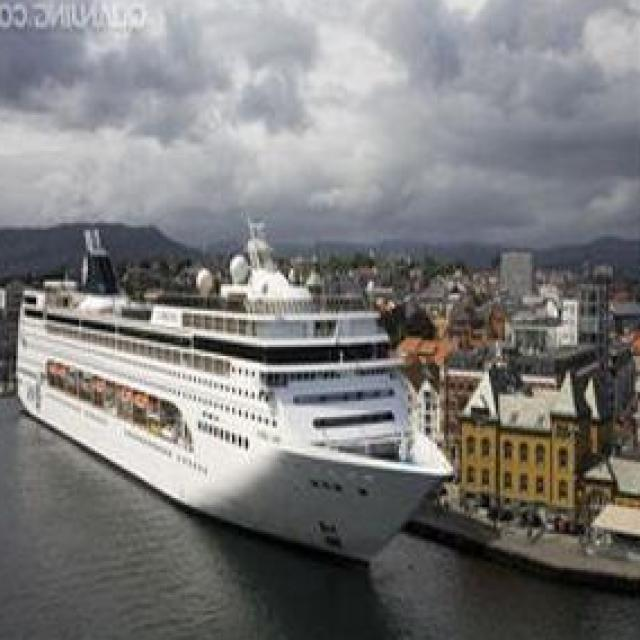passenger ship: (0, 232, 442, 577)
